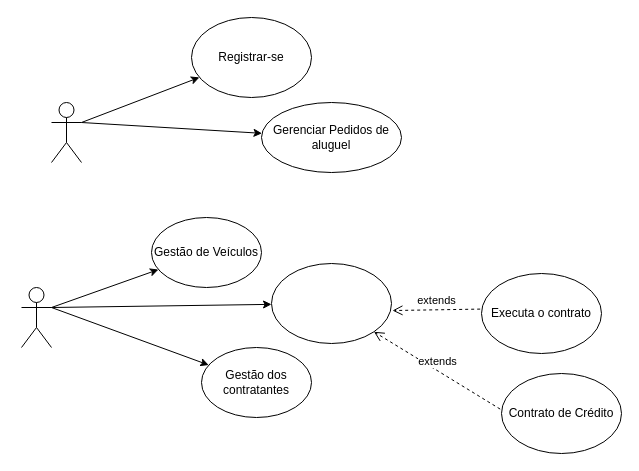
The diagram is 639 pixels wide and 471 high, and some of its shapes have lost their labels. The shapes that lost their labels are listed below. From the top down, each one's centre as x and y in pixels, then its label:
At pixel 66 132: "Cliente".
At pixel 36 317: "Agente".
At pixel 331 303: "Avaliar Pedido".
